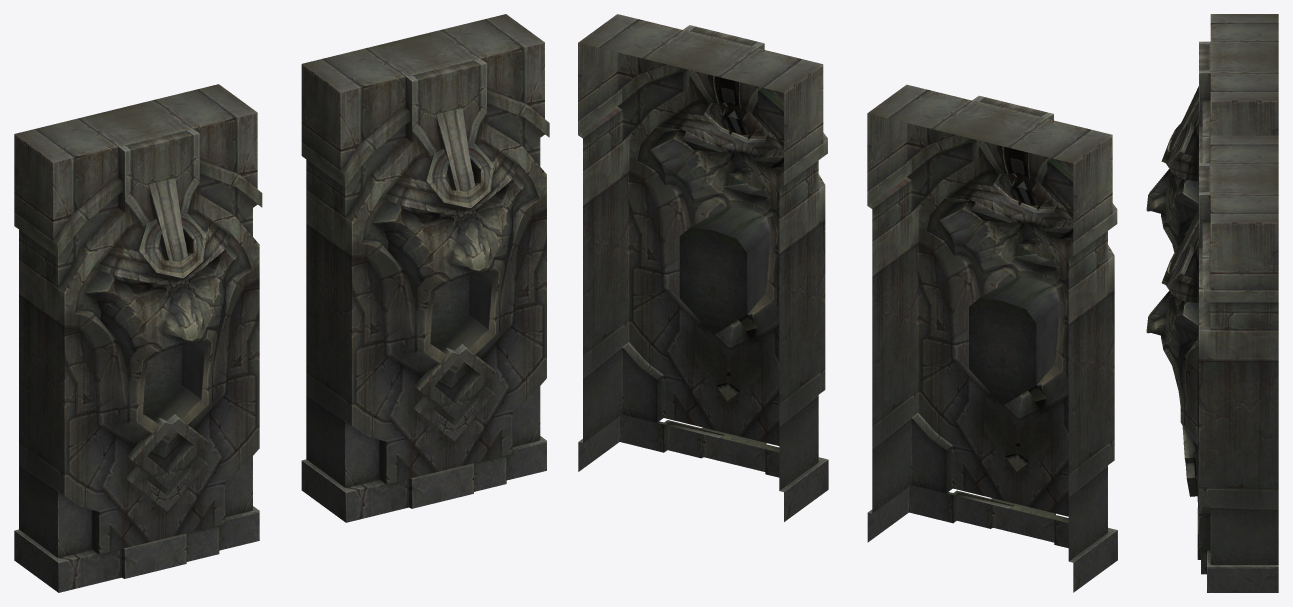
Rendered from f_1012_floor_01.FBX.
3 renders of one model, left to right at view 1: azimuth 30°, elevation 25°; view 2: azimuth 150°, elevation 25°; view 3: azimuth 270°, elevation 25°, orthographic. The views are drawn at different scales.
Visible parts, largest first — view 1: f_1250_floor_m, f_1250_floor_c16; view 2: f_1250_floor_c16, f_1250_floor_m; view 3: f_1250_floor_m, f_1250_floor_c16.
Part boxes in pixels (x1=…): f_1250_floor_m: x1=301, y1=14, x2=549, y2=522; f_1250_floor_c16: x1=14, y1=84, x2=262, y2=592; f_1250_floor_c16: x1=867, y1=84, x2=1117, y2=592; f_1250_floor_m: x1=578, y1=14, x2=828, y2=521; f_1250_floor_m: x1=1146, y1=135, x2=1278, y2=592; f_1250_floor_c16: x1=1146, y1=14, x2=1278, y2=252.
Size of the model in its own units: 944 by 782 by 253.
